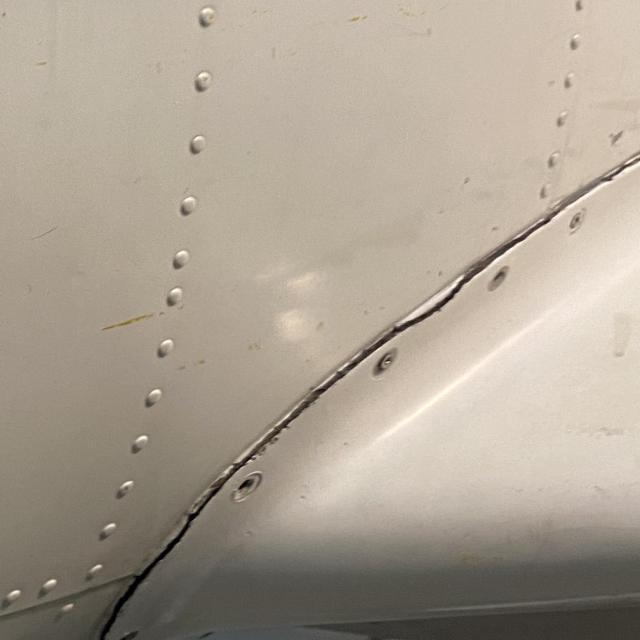Crack: (224, 351, 380, 498), (83, 483, 215, 640), (396, 270, 483, 333)
Missing-head: (234, 472, 265, 504), (489, 263, 514, 292)
Paint-off: (598, 124, 632, 155)
